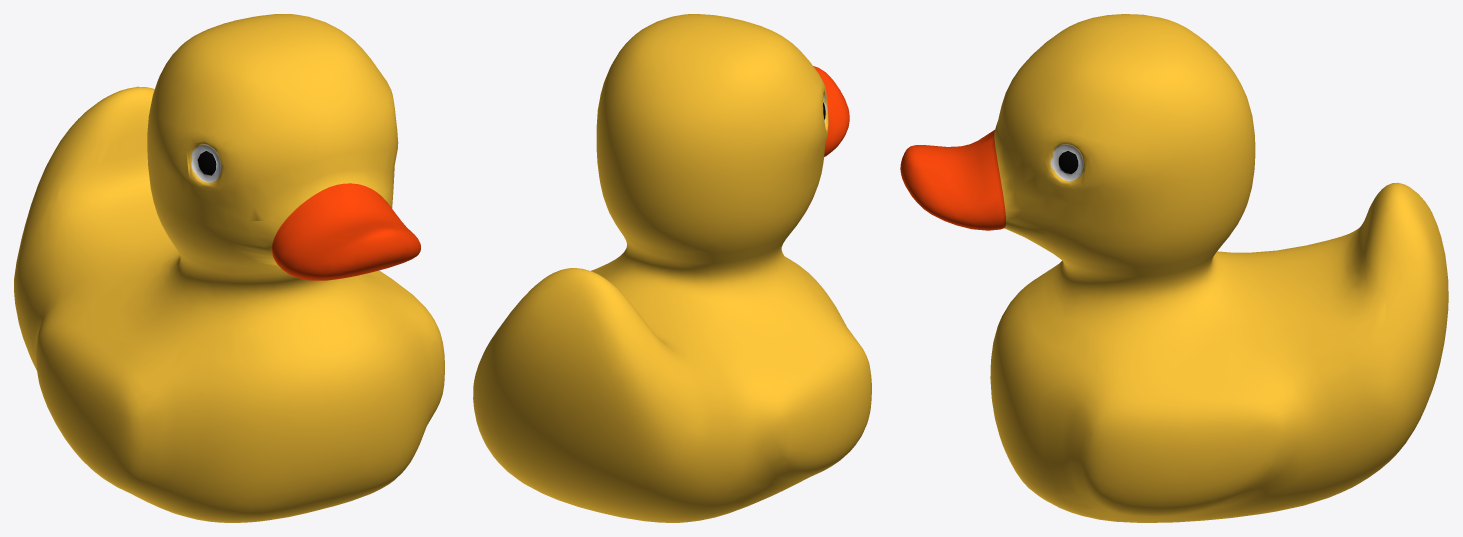
The model's file is pato.glb.
3 views of the same model, side by side, from view 1: azimuth 30°, elevation 25°; view 2: azimuth 150°, elevation 25°; view 3: azimuth 270°, elevation 25° (orthographic). The views are drawn at different scales.
Parts seen in each view (by area): view 1: patito; view 2: patito; view 3: patito.
Part boxes in pixels (left/top/right/bottom): patito: left=14, top=14, right=444, bottom=522; patito: left=473, top=14, right=871, bottom=522; patito: left=900, top=14, right=1448, bottom=522.
Bounding box in the file's own units: 0.237 × 0.3083 × 0.3393.
